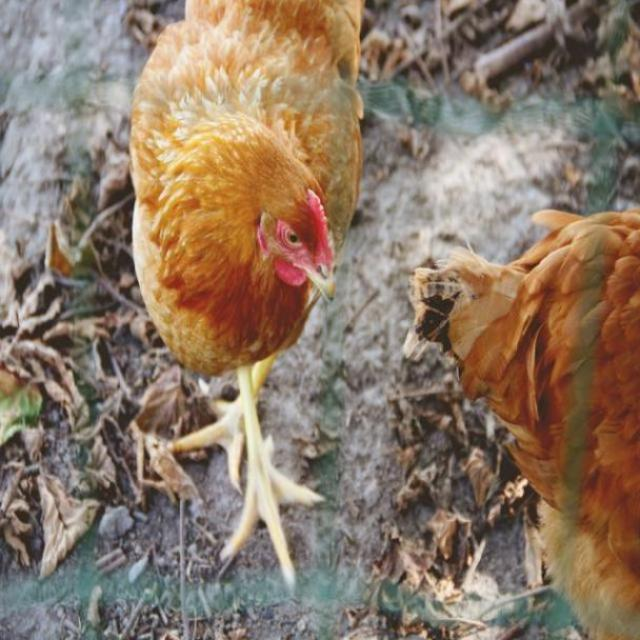Chicken: (125, 0, 371, 593), (412, 186, 640, 606)
